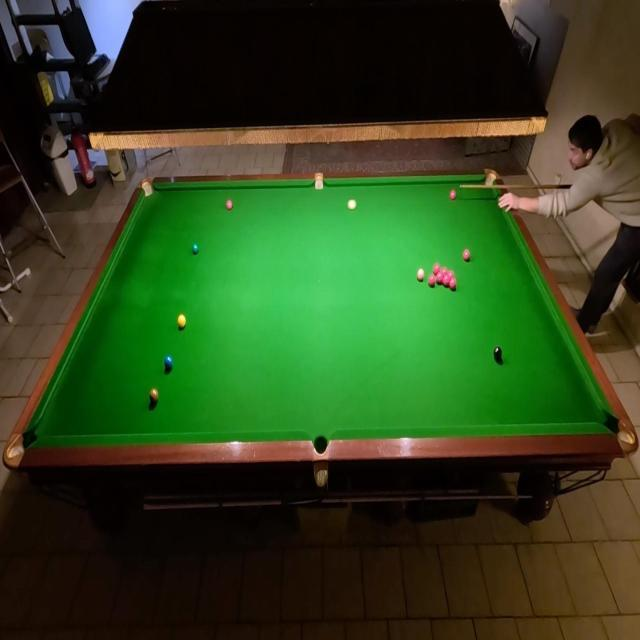Ball: (148, 386, 160, 406), (176, 312, 186, 332), (164, 353, 174, 373), (492, 345, 503, 363), (346, 196, 358, 212), (416, 267, 426, 284), (224, 196, 234, 212), (448, 187, 458, 202), (191, 240, 200, 256), (436, 270, 444, 285), (450, 277, 458, 291), (442, 274, 450, 288), (428, 274, 436, 288), (462, 248, 470, 262), (434, 263, 442, 275), (441, 267, 448, 278), (448, 270, 454, 281)
Pocket: (6, 425, 40, 470), (603, 414, 636, 452), (313, 434, 329, 456), (482, 171, 498, 190), (141, 180, 155, 199), (314, 174, 326, 192)
